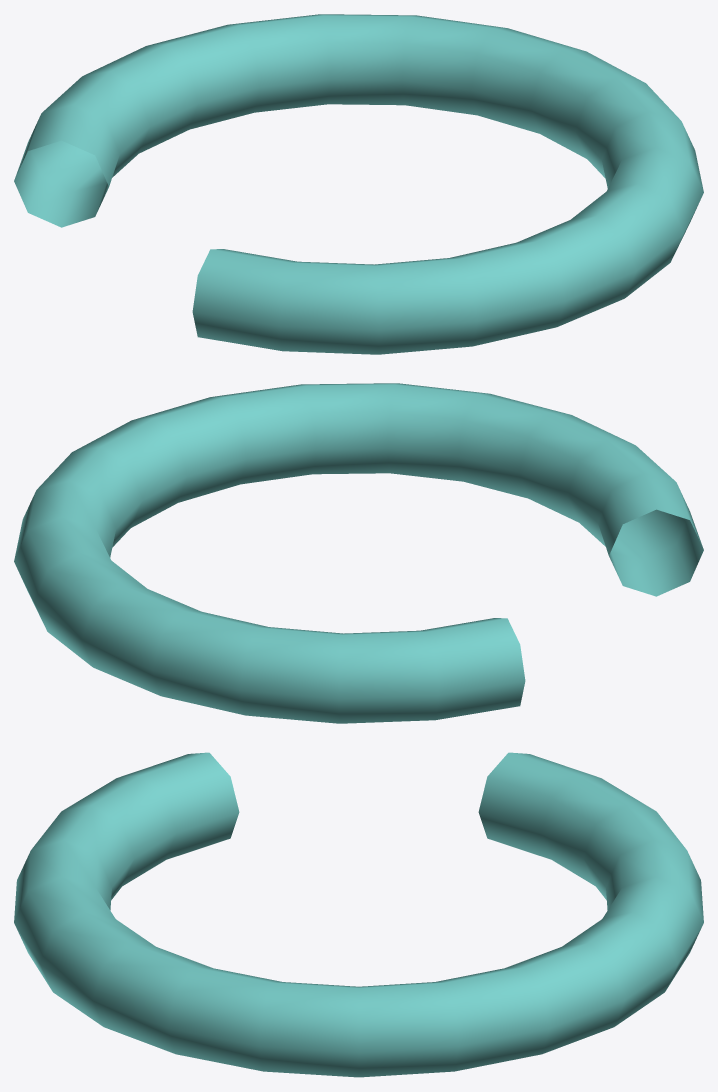
Rendered from lateral_semicircular_canal.glb.
3 renders of one model, top to bottom at view 1: azimuth 30°, elevation 25°; view 2: azimuth 150°, elevation 25°; view 3: azimuth 270°, elevation 25°, orthographic.
Parts seen in each view (by area): view 1: SAMPLE lateral_semicircular_canal; view 2: SAMPLE lateral_semicircular_canal; view 3: SAMPLE lateral_semicircular_canal.
Part boxes in pixels (x1,y1,x2,y2): SAMPLE lateral_semicircular_canal: [14, 14, 703, 354]; SAMPLE lateral_semicircular_canal: [14, 383, 703, 723]; SAMPLE lateral_semicircular_canal: [14, 752, 703, 1077].
Bounding box in the file's own units: 5.6 × 0.84 × 6.
